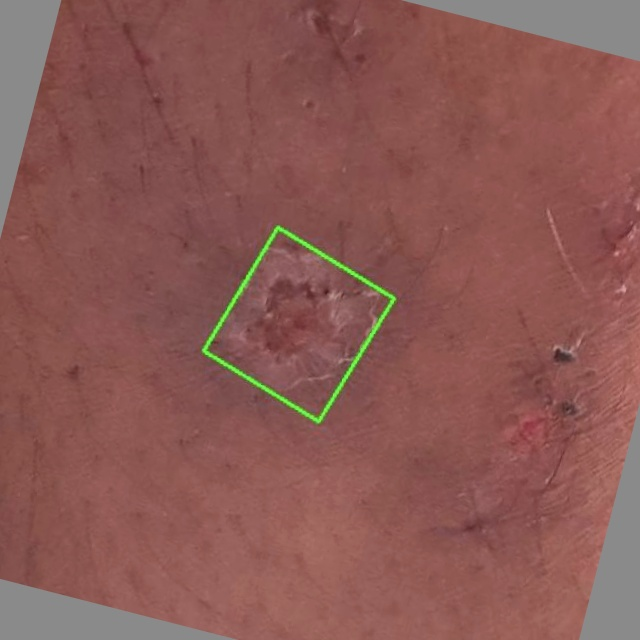Eczema: (202, 227, 393, 421)
